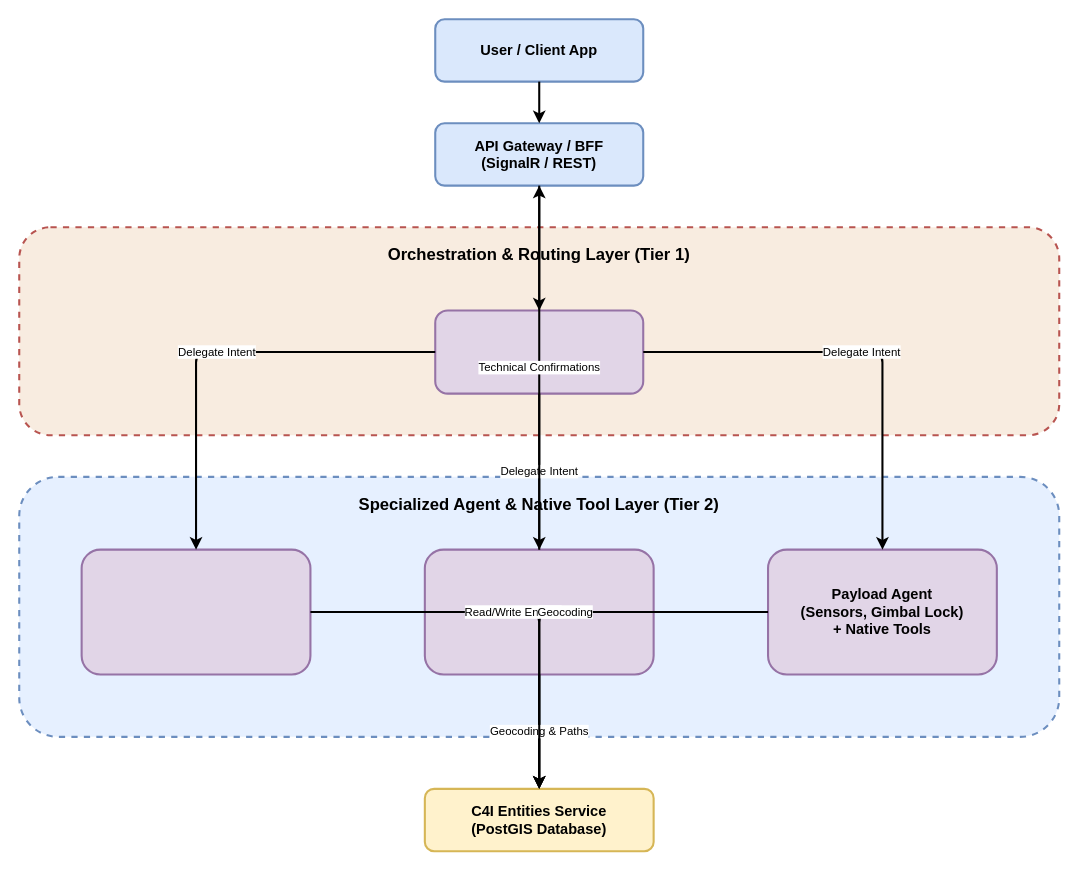
This 1077x869 diagram has some shape labels left out. The box of each missing label's shape, as (x1, y1, x2, y2) in pixels:
Flight Control Agent (Nav, Alt, Speed) + Native Tools: (423, 548, 654, 675)
Mission Control Agent (Planning, Zones, Points) + Native Tools: (80, 548, 311, 675)
Router Agent (GLM-4) (Intent Analysis & Delegation): (434, 309, 644, 394)
